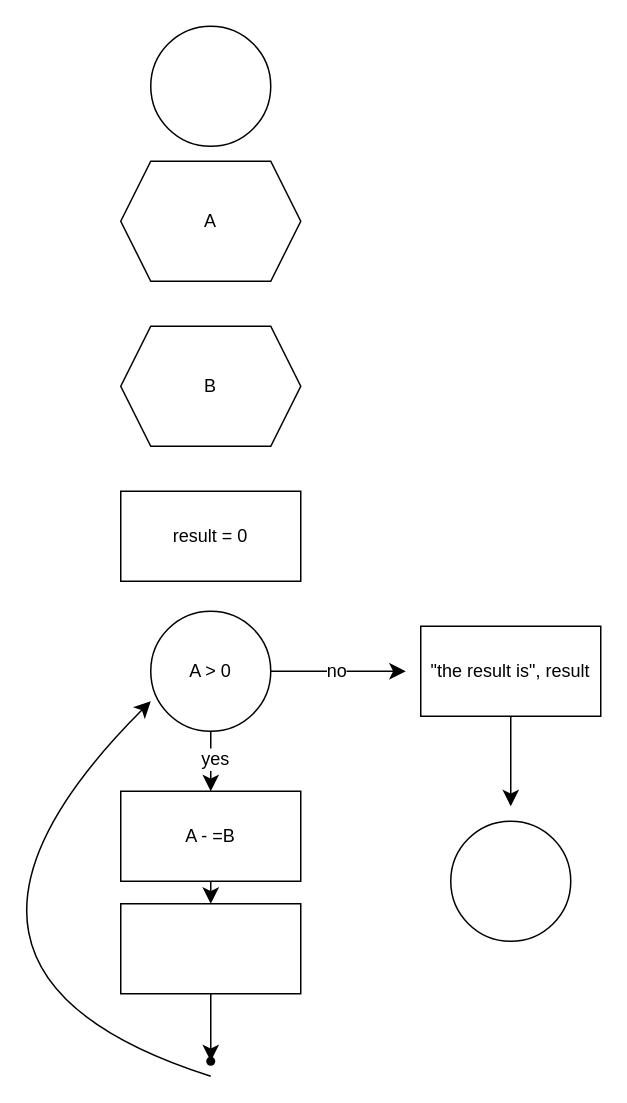
Some shapes in this 627 by 1103 pixel diagram are drawn without their labels. The shapes that lost their labels are listed below. From the top down, each one's centre as x and y in pixels, then its label:
point 210,85: start
point 510,880: end
point 210,948: result +=1
